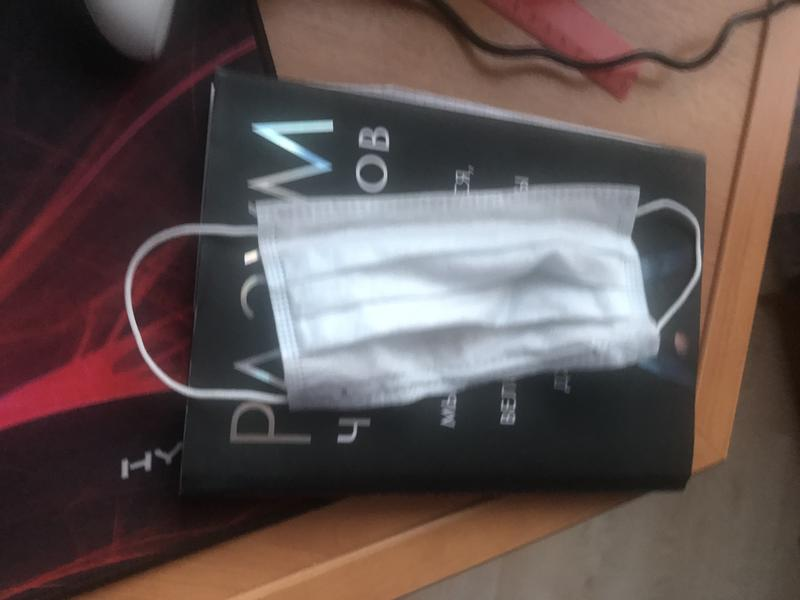medical_mask: (124, 192, 701, 405)
